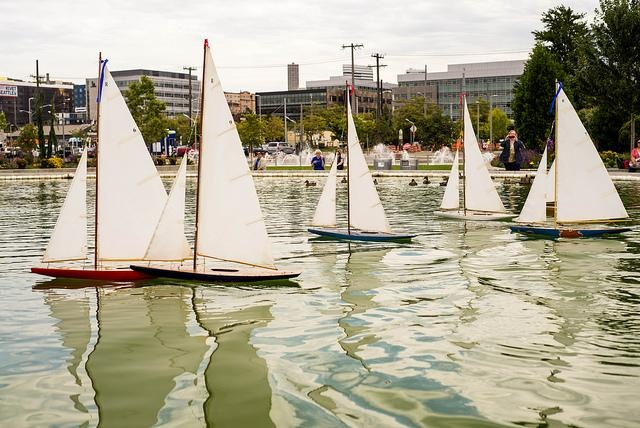fanchuan: (133, 37, 313, 291), (27, 57, 180, 284), (512, 78, 640, 243), (304, 79, 423, 255), (430, 88, 524, 235)
